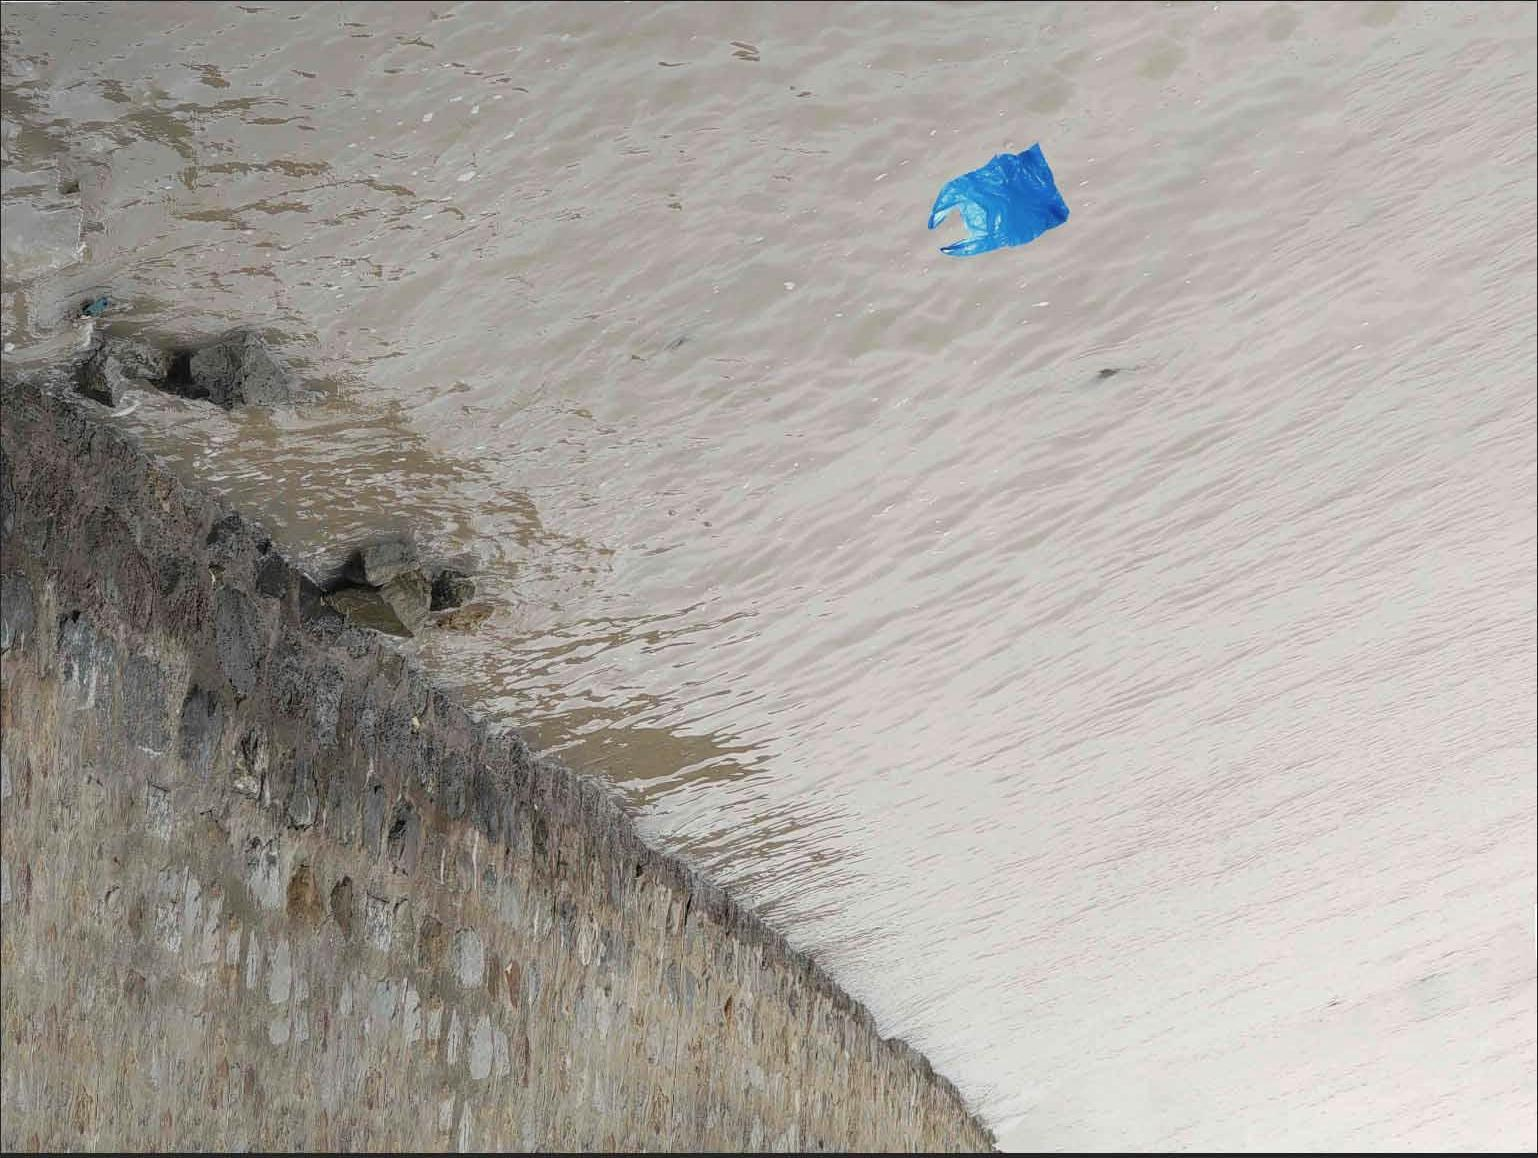Trash: (922, 142, 1071, 265)
